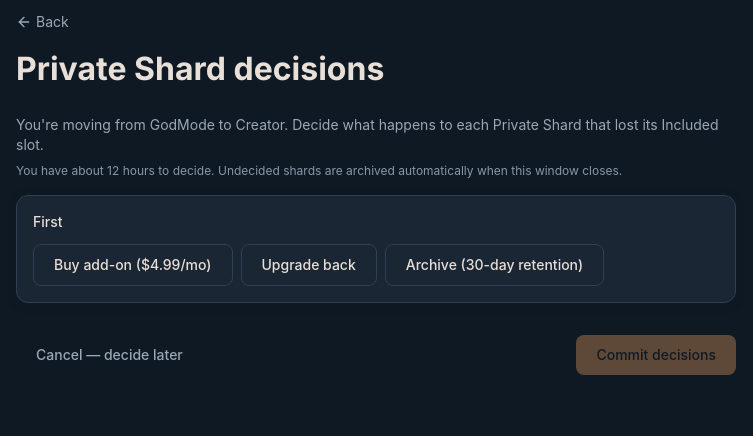
Test: DowngradeChoicePage › a mutation that superseded no running read reads nothing again when it ends (R463.2)
Click the button "Archive (30-day retention)". click: (494, 265)
box: top-left (385, 244), bottom-right (604, 286)
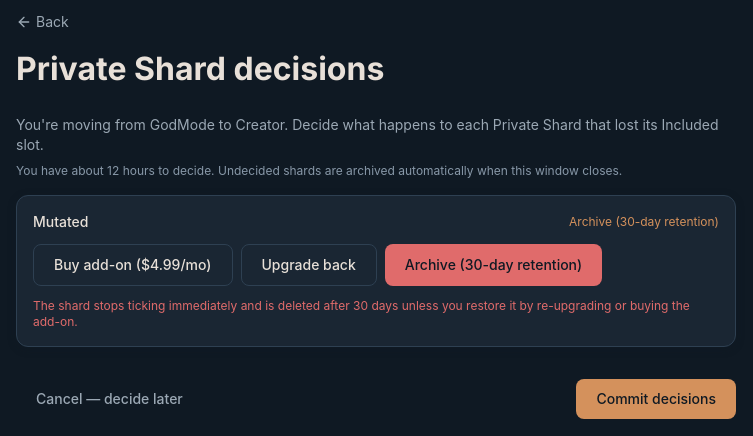
expect the text "Mutated" is shown: met, box top-left (33, 212), bottom-right (88, 232)
